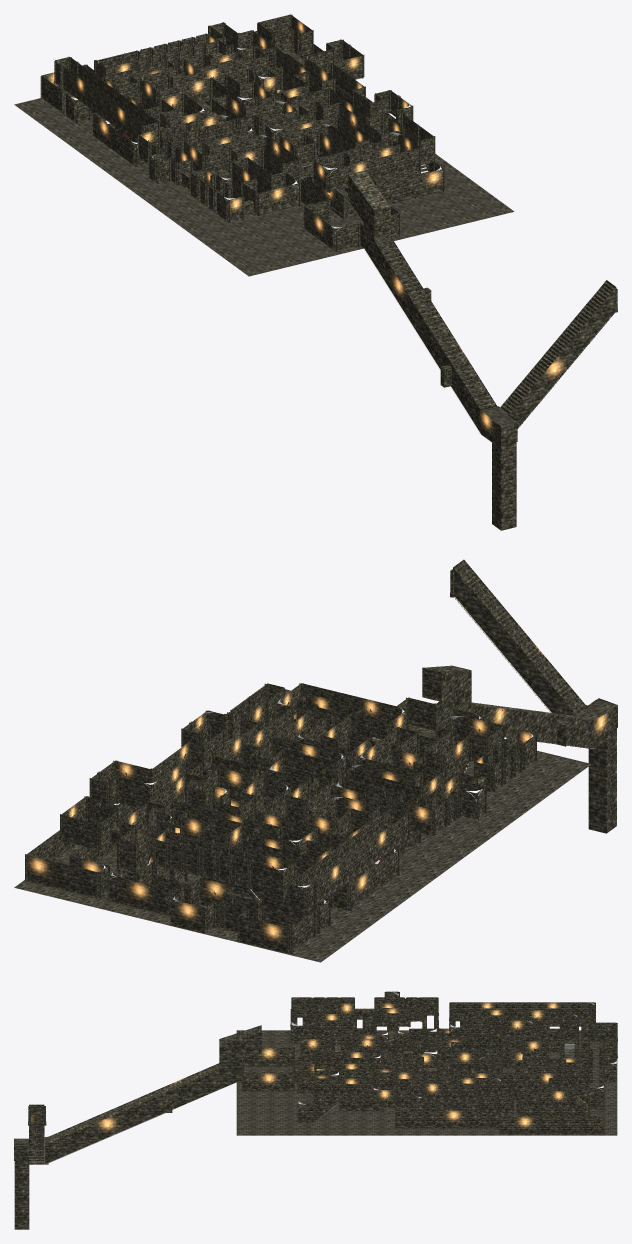
The model's file is FI_002_zennkiseisaku_meiro2_01_44.fbx.
The picture shows the model from 3 angles, top to bottom: view 1: azimuth 30°, elevation 25°; view 2: azimuth 150°, elevation 25°; view 3: azimuth 270°, elevation 25°; orthographic projection. The views are drawn at different scales.
Parts seen in each view (by area): view 1: kabe_2kai, kabe_1kai, yuka_1kai, hasira, tenjou_kaidann, tenjou_kaidann2; view 2: kabe_2kai, kabe_1kai, yuka_1kai, hasira, tenjou_kaidann2, saku; view 3: kabe_2kai, kabe_1kai, yuka_1kai, hasira, tenjou_kaidann, kaidann, suro-pu.
Part boxes in pixels (box(x1,y1,x2,y2)): kabe_2kai: box(55, 14, 434, 222); kabe_1kai: box(41, 31, 616, 530); yuka_1kai: box(14, 52, 514, 276); hasira: box(40, 14, 445, 251); tenjou_kaidann: box(374, 236, 496, 410); tenjou_kaidann2: box(501, 282, 614, 413); kabe_2kai: box(61, 683, 536, 913); kabe_1kai: box(26, 559, 617, 954); yuka_1kai: box(14, 689, 591, 962); hasira: box(25, 683, 537, 954); tenjou_kaidann2: box(454, 562, 585, 714); saku: box(145, 569, 454, 858); kabe_2kai: box(291, 991, 594, 1114); kabe_1kai: box(14, 1022, 616, 1229); yuka_1kai: box(236, 1030, 617, 1135); hasira: box(241, 992, 617, 1134); tenjou_kaidann: box(48, 1064, 219, 1142); kaidann: box(29, 1043, 587, 1164); suro-pu: box(29, 1044, 586, 1163).
Bounding box in the file's own units: 967 × 847 × 2337.
